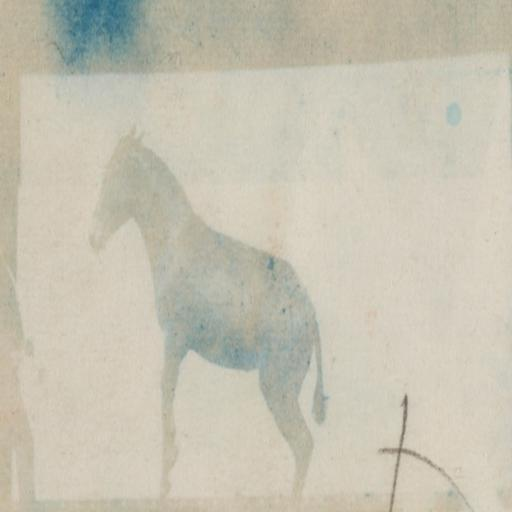horse: (88, 126, 328, 505)
